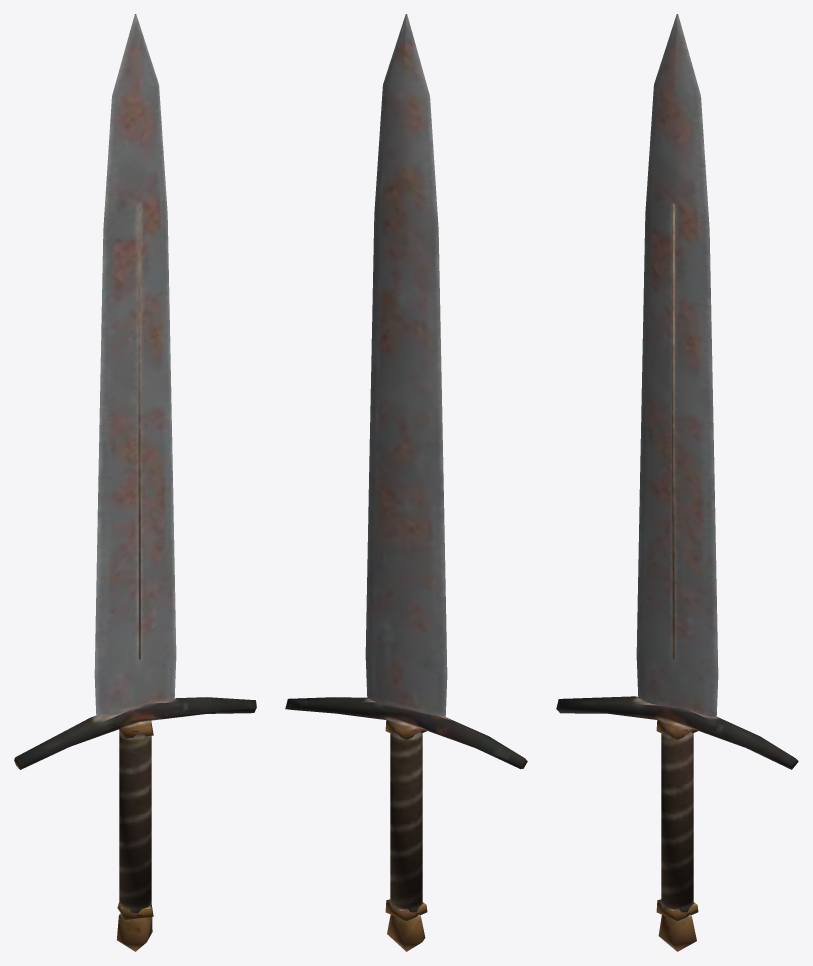
Rendered from eq_greatsword_1_lod2.glb.
3 renders of one model, left to right at view 1: azimuth 30°, elevation 25°; view 2: azimuth 150°, elevation 25°; view 3: azimuth 330°, elevation 25°, orthographic.
Visible parts, largest first — view 1: eq_greatsword_1_lod2; view 2: eq_greatsword_1_lod2; view 3: eq_greatsword_1_lod2.
Part boxes in pixels (left/top/right/bottom): eq_greatsword_1_lod2: left=14, top=14, right=256, bottom=951; eq_greatsword_1_lod2: left=285, top=14, right=527, bottom=951; eq_greatsword_1_lod2: left=556, top=14, right=798, bottom=951.
Size of the model in its own units: 0.487 by 1.83 by 0.0714.
1 material, 1 textured.
